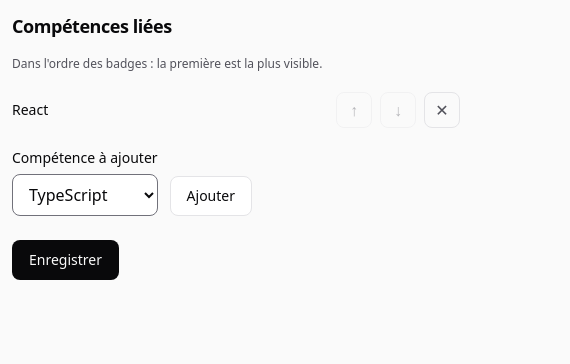
SkillPicker › shows a refused list on the group, and focuses the chooser
The image size is (570, 364).
Step 1. Click the button "Enregistrer" → (66, 260), box 12,240 -> 119,280
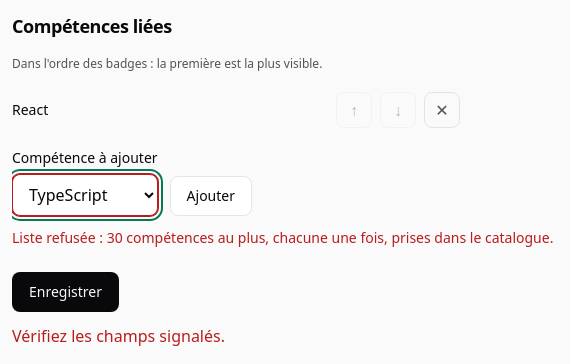
Now the text "Vérifiez les champs signalés." is shown, box 12,325 -> 225,347
